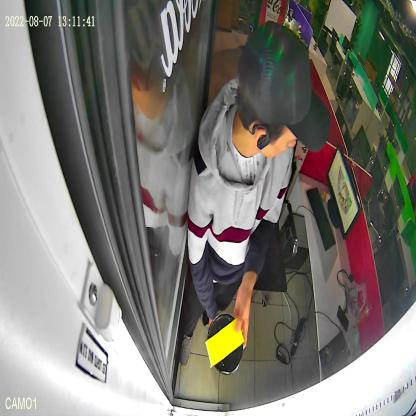yellow: (205, 313, 245, 376)
